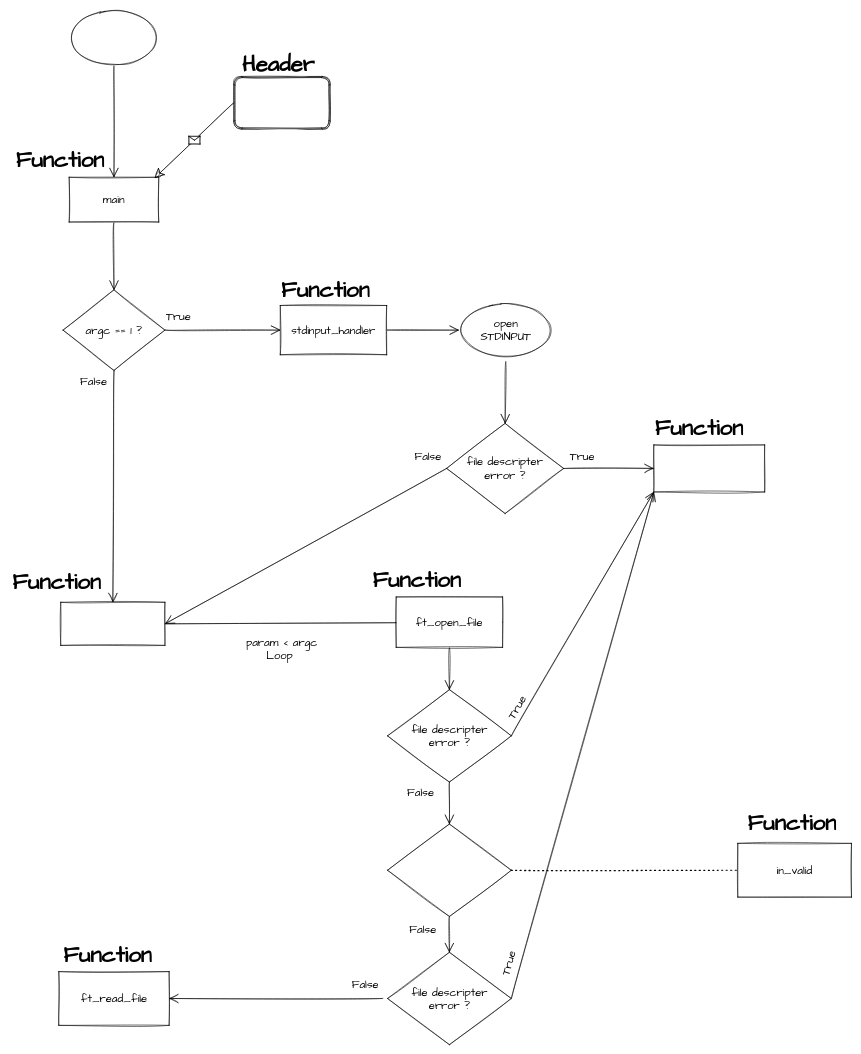
Some shapes in this 861 by 1054 pixel diagram are drawn without their labels. Each missing label, with the centre of its shape:
file_handler: point 112,623
ft_puterr: point 709,468
header "bsq.h" struct mapinfo: point 281,102
start: point 114,37
this descripter is valid ?: point 449,869
